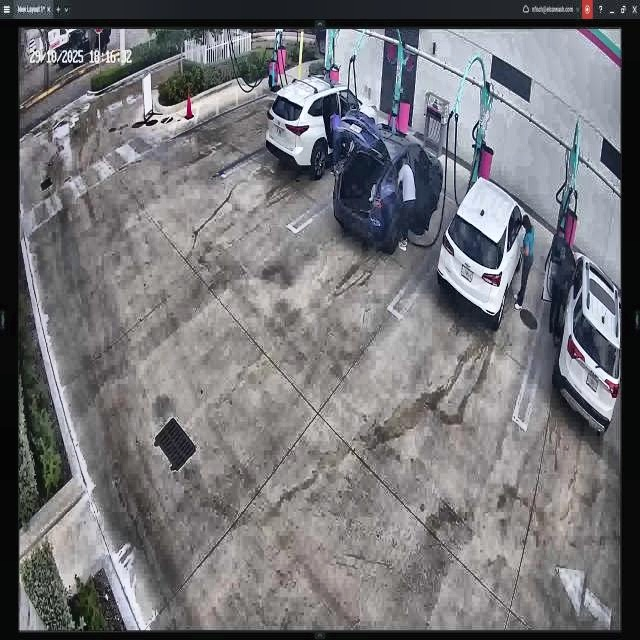Car: (334, 110, 443, 254), (436, 177, 530, 331), (266, 75, 380, 181)
